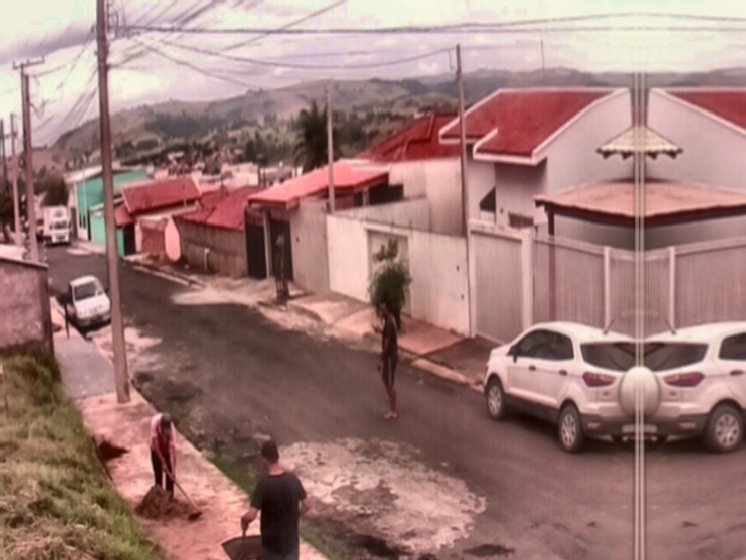person: (240, 439, 310, 560), (373, 299, 399, 420), (148, 410, 177, 495)
